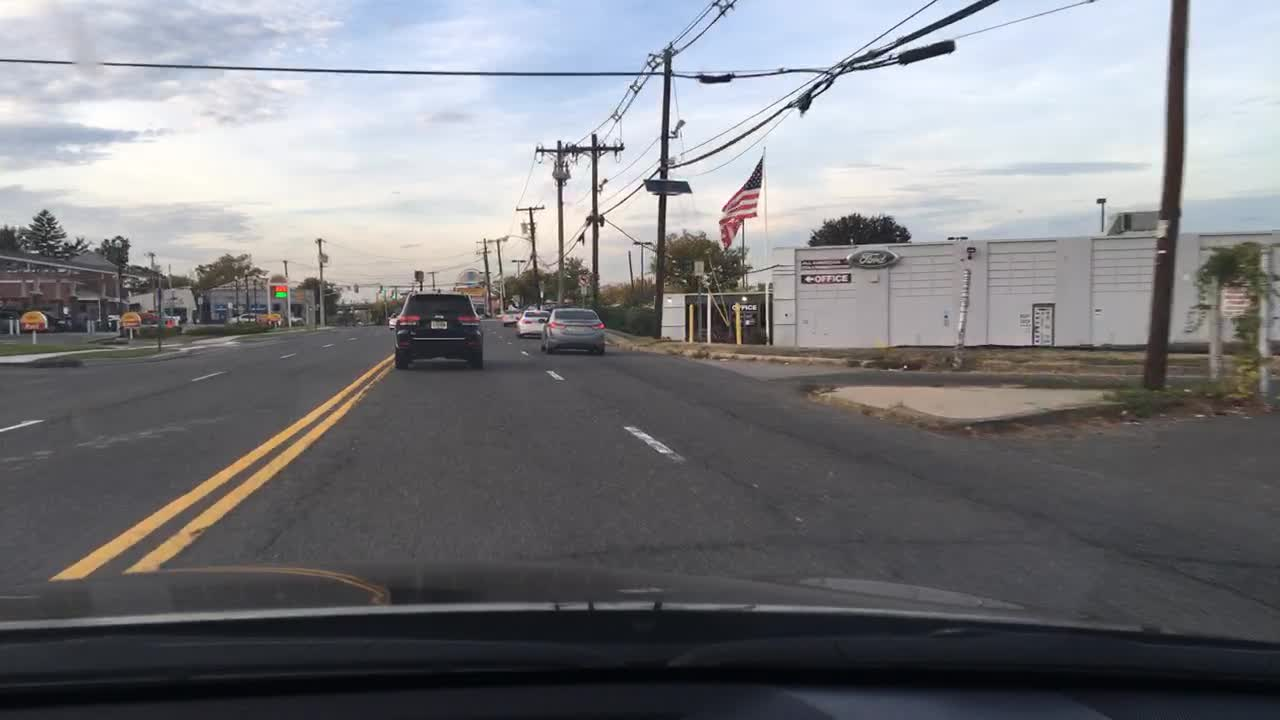car: (392, 285, 485, 366), (540, 306, 611, 356), (510, 310, 548, 336), (136, 308, 169, 325), (497, 307, 519, 327), (231, 310, 255, 324), (387, 311, 396, 330)
traffic light: (378, 283, 384, 297)
traffic sign: (1215, 283, 1257, 317)
